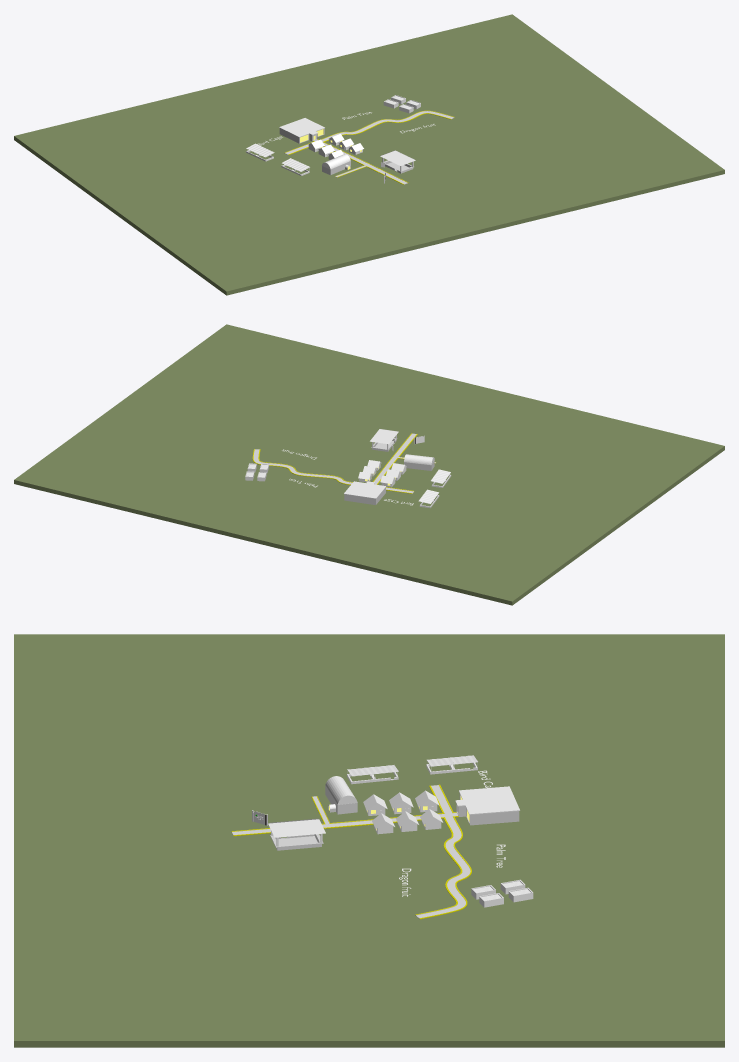
3 views of the same model, one above another, from view 1: azimuth 30°, elevation 25°; view 2: azimuth 150°, elevation 25°; view 3: azimuth 270°, elevation 25° (orthographic). The views are drawn at different scales.
Visible parts, largest first — view 1: Base, Cube018; view 2: Base, Cube018; view 3: Base, Cube018, Cube066_4, Cube040, Fish_pond, Cube019, Cube042.
Part boxes in pixels (left/top/right/bottom): Base: left=14, top=14, right=724, bottom=295; Cube018: left=279, top=118, right=324, bottom=137; Base: left=14, top=324, right=724, bottom=605; Cube018: left=344, top=481, right=386, bottom=498; Base: left=14, top=634, right=724, bottom=1047; Cube018: left=455, top=786, right=520, bottom=814; Cube066_4: left=416, top=816, right=470, bottom=918; Cube040: left=268, top=818, right=325, bottom=837; Fish_pond: left=471, top=879, right=533, bottom=907; Cube019: left=456, top=793, right=519, bottom=825; Cube042: left=270, top=834, right=323, bottom=850.
Size of what is drawn, in the model's own units: 127 by 3.57 by 93.55.
